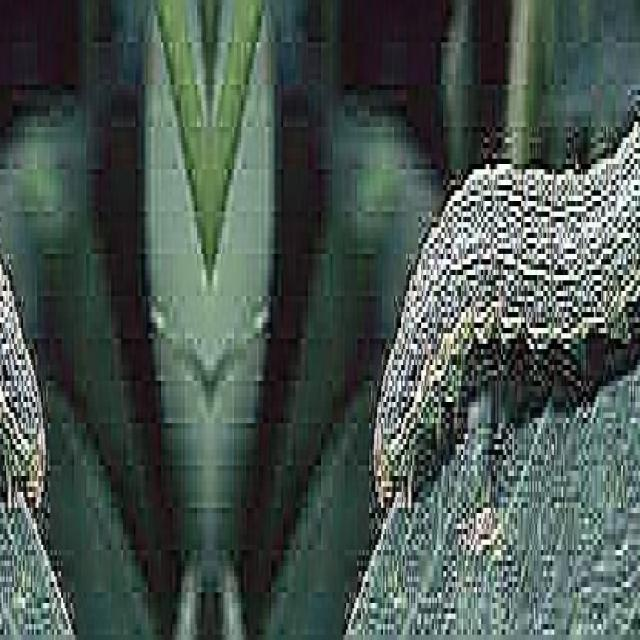Armyworm: (345, 1, 640, 543)
